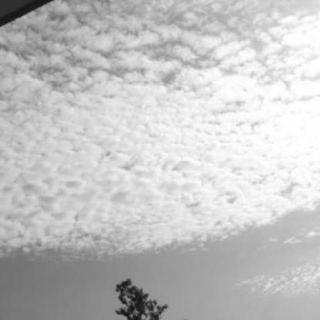Altocumulus: (1, 5, 320, 258)
